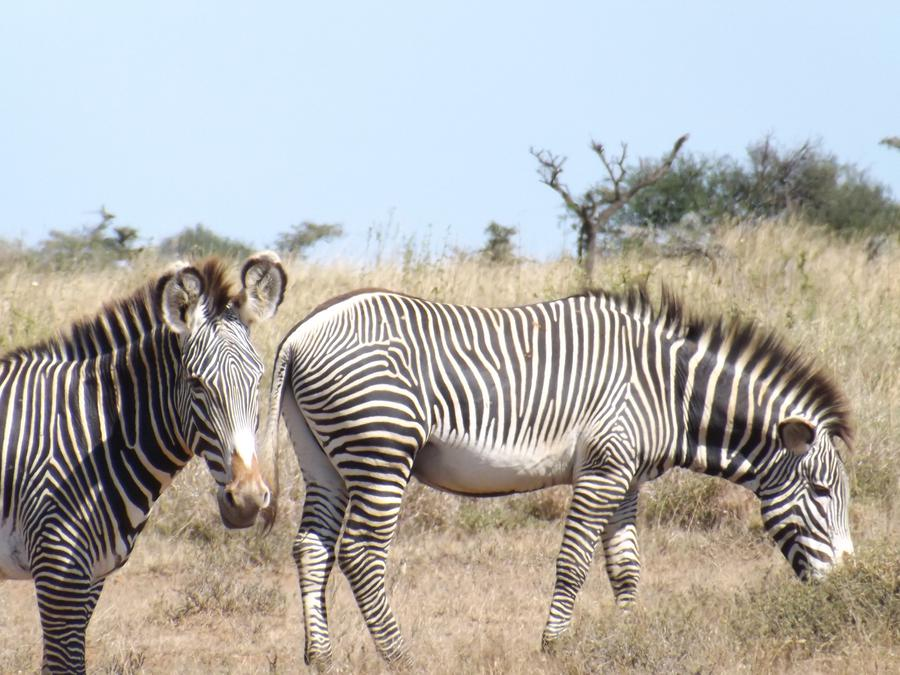zebra_grevys: (291, 256, 648, 486)
